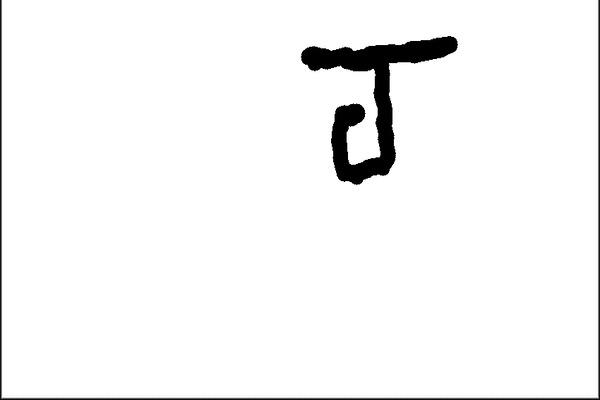J: (292, 30, 462, 187)
